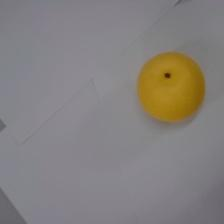yellow: (136, 51, 205, 123)
